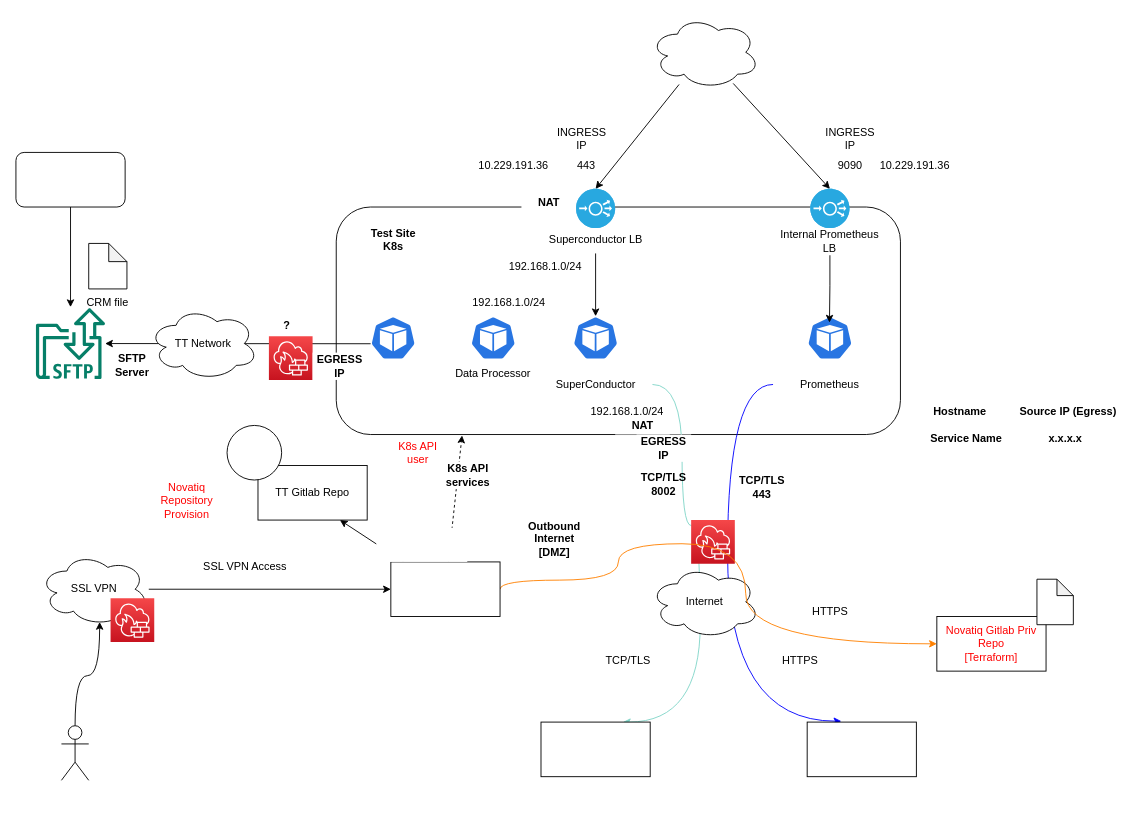
Some shapes in this 1134 by 829 pixel diagram are drawn without their labels. The shapes that lost their labels are listed below. From the top down, each one's centre as x and y in pixels, then its label:
the point at 704,52: VMWare
the point at 70,179: Data Warehouse Team
the point at 254,452: Novatiq Images
the point at 421,544: 10.131.40.0/24 IT ACCESS
the point at 445,589: Gitlab Runner VM
the point at 75,752: Novatiq Devops Eng
the point at 595,749: Frankfurt ConsumOR API
the point at 861,749: Novatiq Cloud Fusion UI
